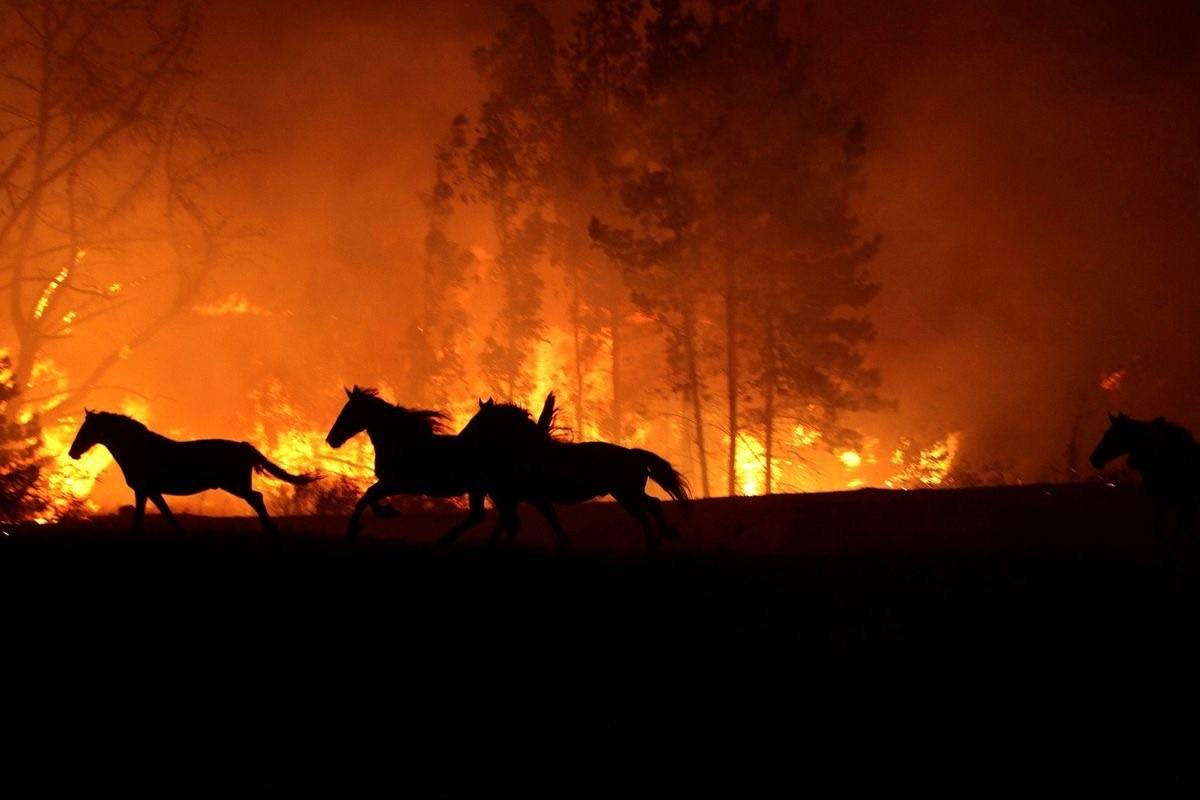fire: (430, 185, 710, 448), (698, 376, 997, 538), (199, 328, 376, 519), (0, 287, 99, 519)
